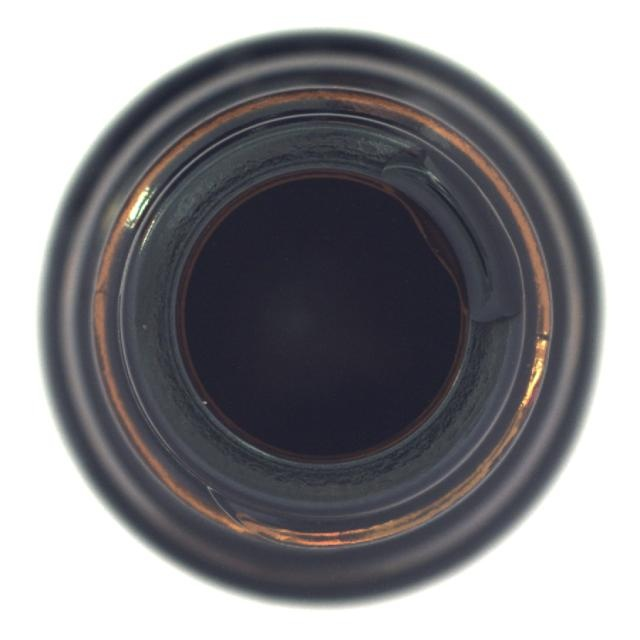bad-contamination: (35, 28, 605, 612)
